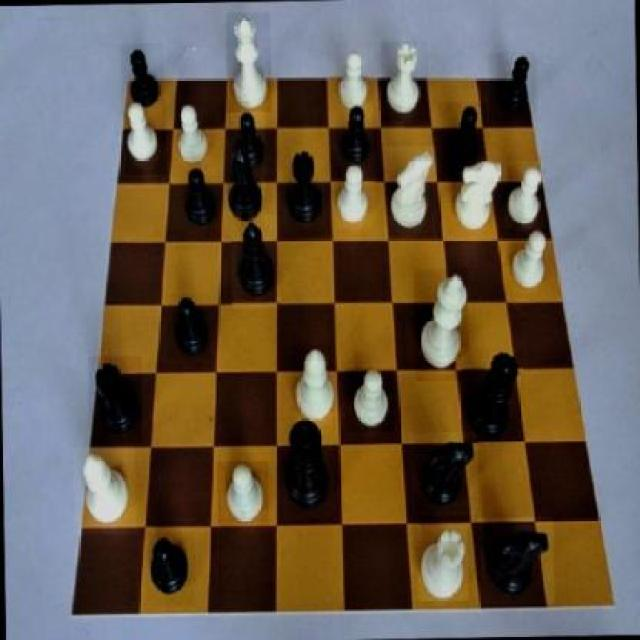bishop: (231, 214, 278, 309), (223, 140, 266, 234)
black-bishop: (280, 411, 335, 521)
black-king: (478, 517, 554, 606), (411, 432, 478, 516)
black-knight: (143, 532, 195, 608), (440, 101, 489, 172), (489, 51, 537, 120), (120, 43, 164, 116), (166, 294, 211, 360), (177, 169, 221, 233), (332, 101, 375, 166), (231, 112, 266, 177)
black-pawn: (462, 346, 524, 447)
black-queen: (89, 357, 143, 446), (282, 143, 328, 231)
black-rook: (74, 448, 136, 535), (292, 345, 336, 432)
white-bishop: (412, 269, 468, 382)
white-king: (384, 144, 438, 240), (451, 156, 506, 234)
white-knight: (505, 228, 557, 303), (217, 460, 269, 527), (170, 99, 214, 176), (125, 97, 167, 175), (344, 368, 394, 432), (329, 49, 369, 126), (331, 166, 377, 231), (501, 162, 544, 229)
white-pawn: (226, 12, 272, 113)
white-queen: (380, 40, 429, 120), (417, 524, 468, 600)
